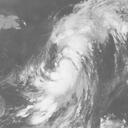cyclone: (32, 37, 94, 102)
